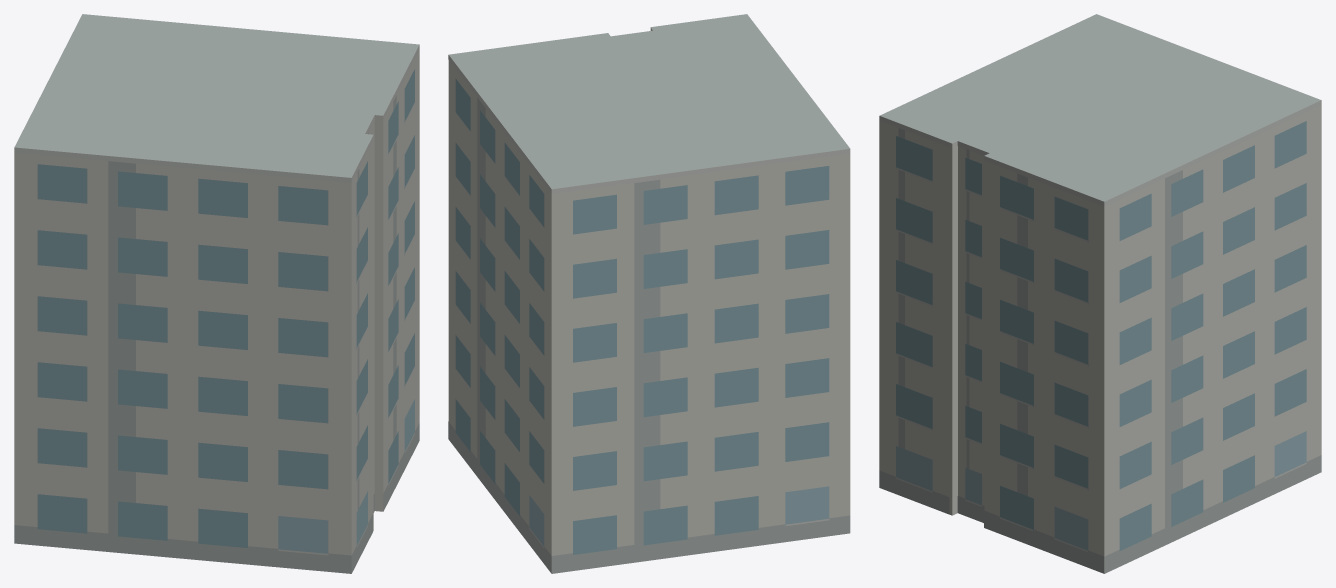
File: survey-upis-32976861.glb
3 renders of one model, left to right at view 1: azimuth 30°, elevation 25°; view 2: azimuth 150°, elevation 25°; view 3: azimuth 270°, elevation 25°, orthographic. The views are drawn at different scales.
Visible parts, largest first — view 1: survey-upis-32976861.tmp; view 2: survey-upis-32976861.tmp; view 3: survey-upis-32976861.tmp.
Boxes of the visible parts, x1,y1,x2,y2 form: survey-upis-32976861.tmp: (14,14,419,573); survey-upis-32976861.tmp: (448,14,850,573); survey-upis-32976861.tmp: (879,14,1321,573).
Bounding box in the file's own units: 20.09 × 18.55 × 19.98.
